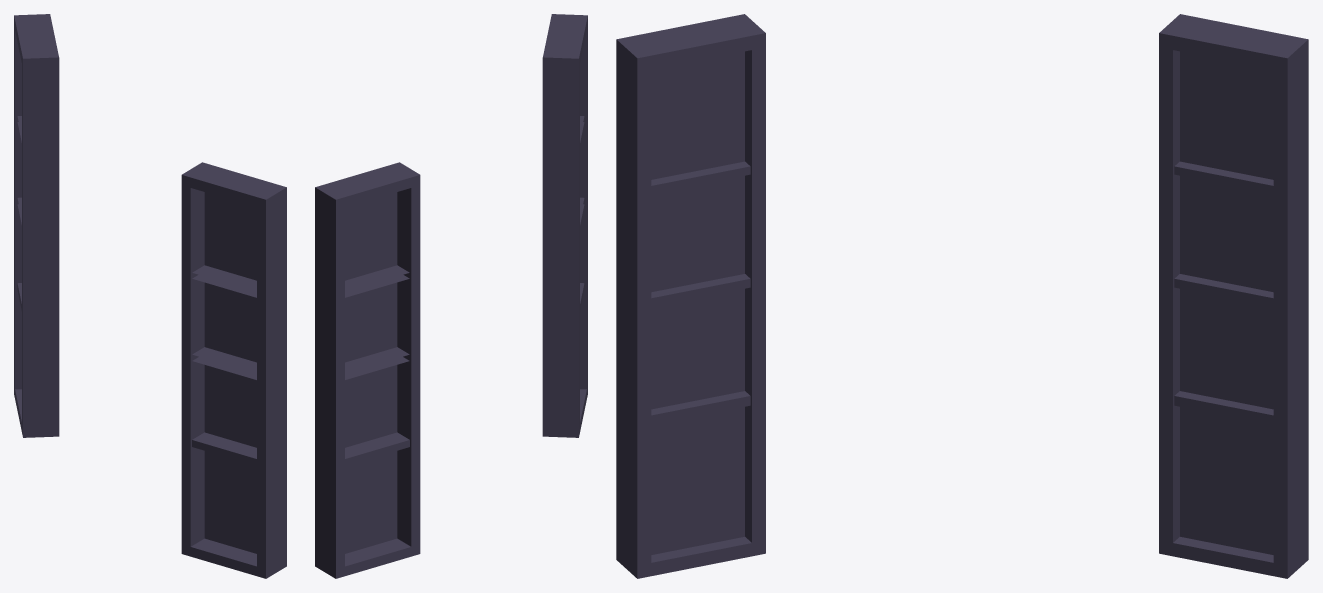
Rendered from BigWindoor.fbx.
3 views of the same model, side by side, from view 1: azimuth 30°, elevation 25°; view 2: azimuth 150°, elevation 25°; view 3: azimuth 270°, elevation 25° (orthographic). The views are drawn at different scales.
Parts seen in each view (by area): view 1: WinBigDoor.004; view 2: WinBigDoor.004; view 3: WinBigDoor.004.
Boxes of the visible parts, x1,y1,x2,y2 form: WinBigDoor.004: (14,14,286,578); WinBigDoor.004: (315,14,587,578); WinBigDoor.004: (616,14,1308,578).
Bounding box in the file's own units: 66.62 × 365 × 439.
